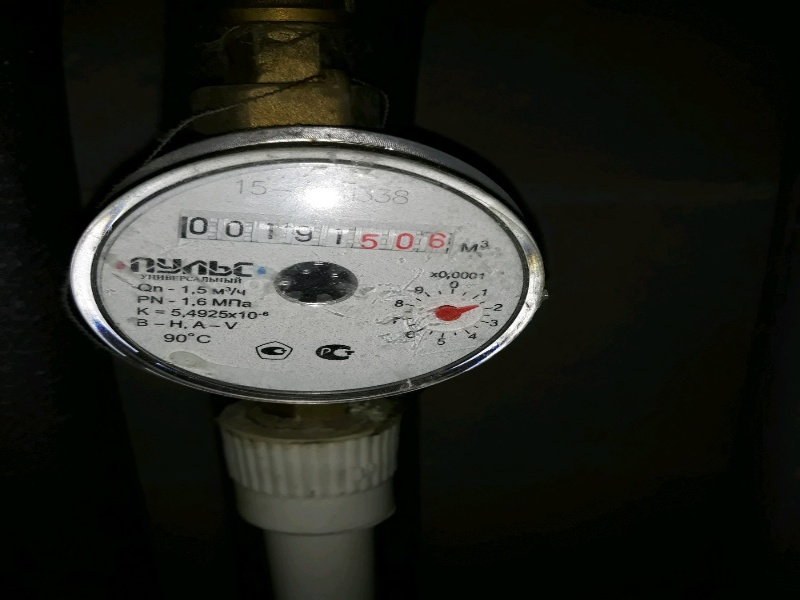meter: (174, 209, 452, 256)
